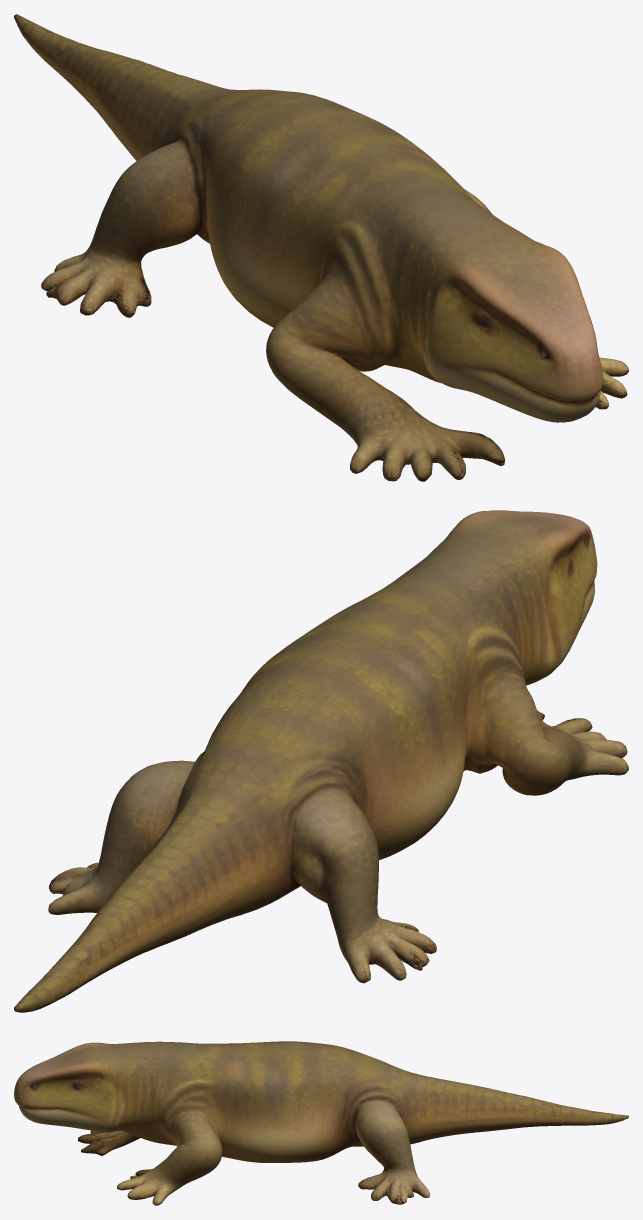
The picture shows the model from 3 angles, top to bottom: view 1: azimuth 30°, elevation 25°; view 2: azimuth 150°, elevation 25°; view 3: azimuth 270°, elevation 25°; orthographic projection. The views are drawn at different scales.
Parts seen in each view (by area): view 1: world; view 2: world; view 3: world.
Boxes of the visible parts, <box> form: world: <box>14,14,628,481</box>; world: <box>14,510,628,1012</box>; world: <box>14,1041,628,1205</box>.
Size of the model in its own units: 0.1292 by 0.0717 by 0.35.
1 material, 1 textured.
